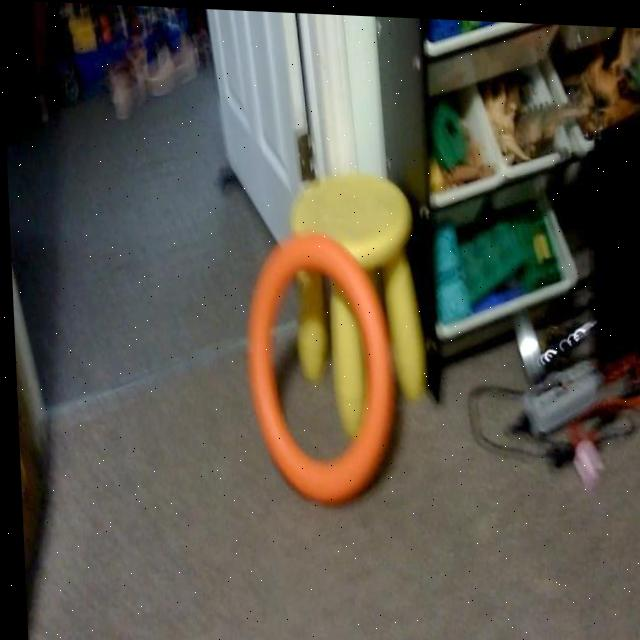note: (236, 216, 396, 511)
